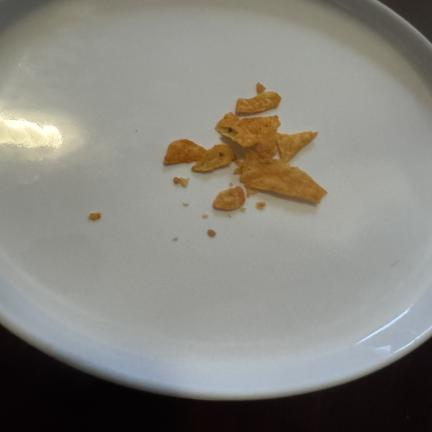chips: (163, 112, 327, 212), (235, 82, 281, 114)
plate: (0, 0, 431, 398)
